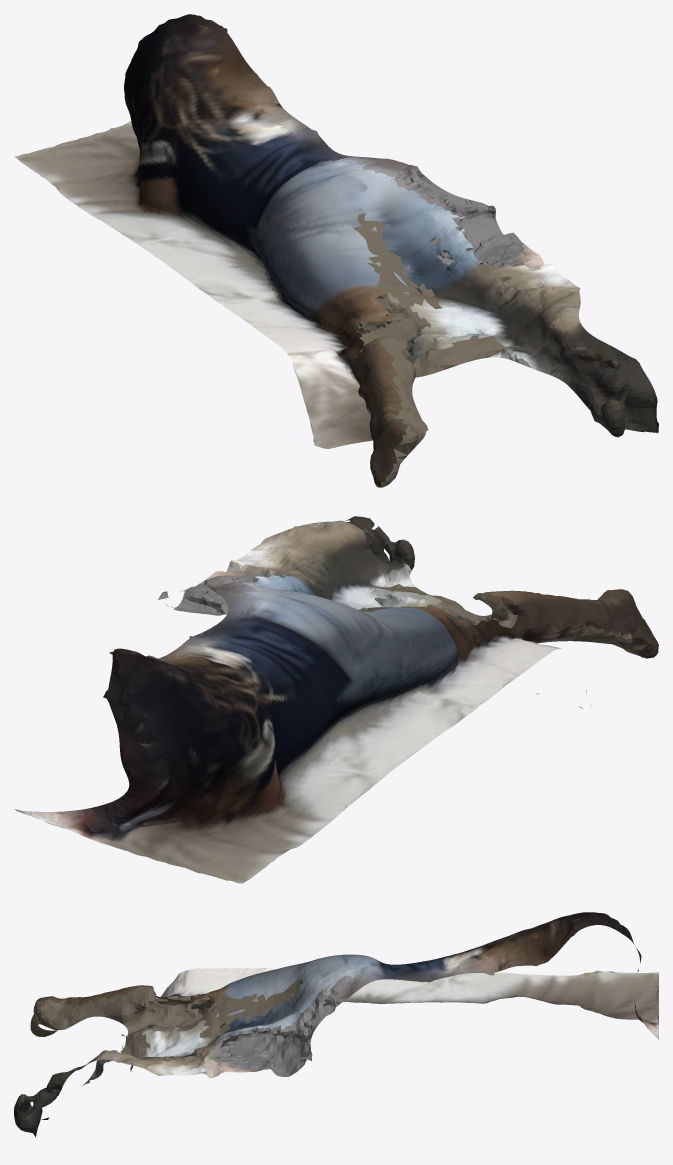
The picture shows the model from 3 angles, top to bottom: view 1: azimuth 30°, elevation 25°; view 2: azimuth 150°, elevation 25°; view 3: azimuth 270°, elevation 25°; orthographic projection. The views are drawn at different scales.
Size of the model in its own units: 0.6926 by 0.5011 by 1.64.
1 material, 1 textured.
